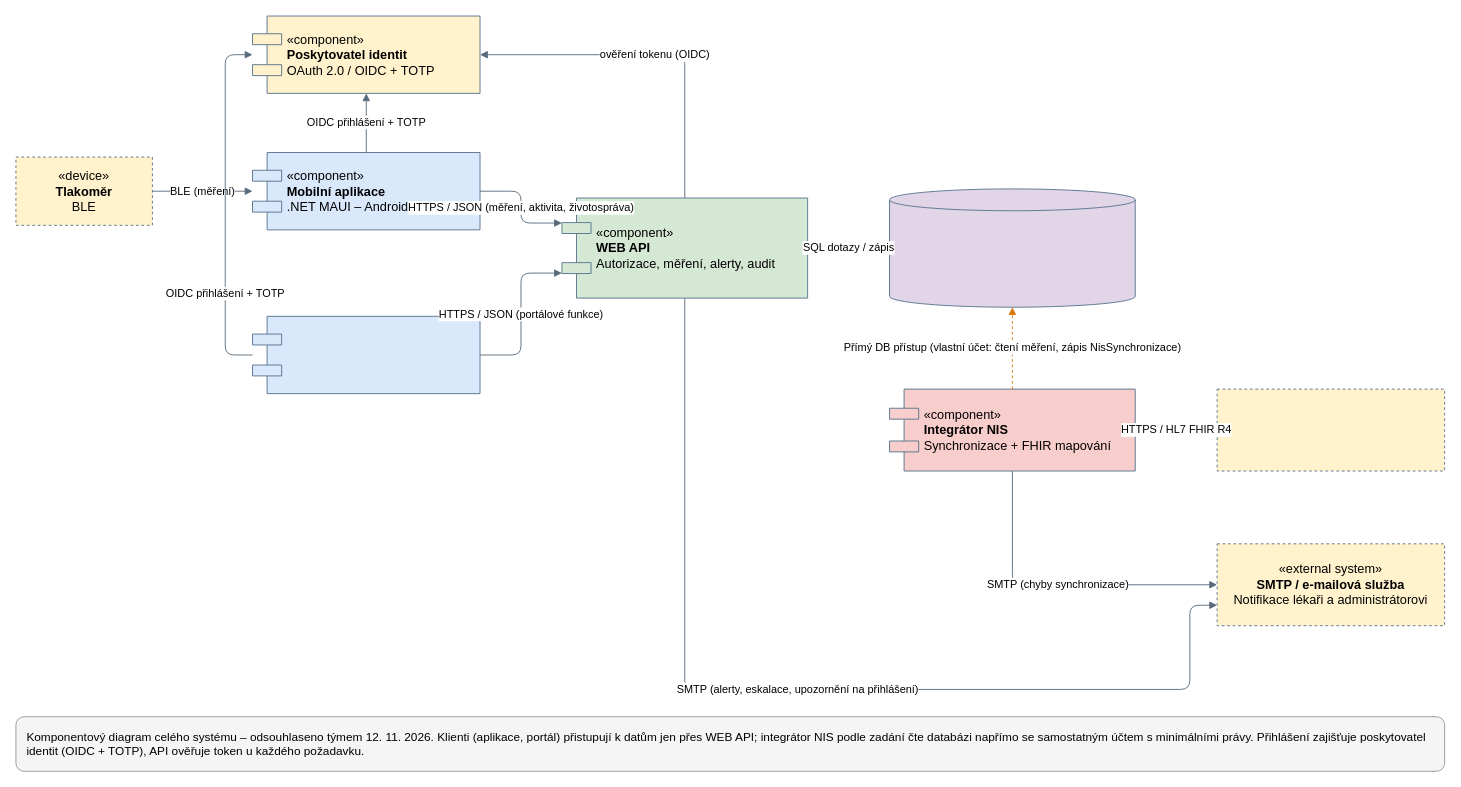
Some shapes in this 1461 by 787 pixel diagram are drawn without their labels. Here are the shapes that lost their labels. From the top down, the centre of each, then its label:
At (1012,247): "«database» PostgreSQL Pacienti, měření, alerty, audit, synchronizace".
At (366,354): "«component» Webový portál React + TypeScript (SPA)".
At (1330,429): "«external system» Nemocniční informační systém (NIS)".
